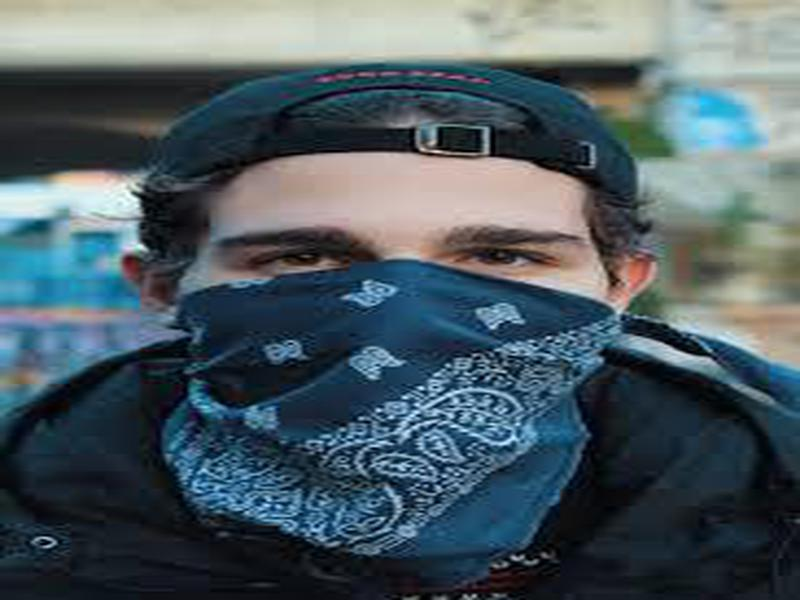with_mask: (161, 152, 632, 576)
